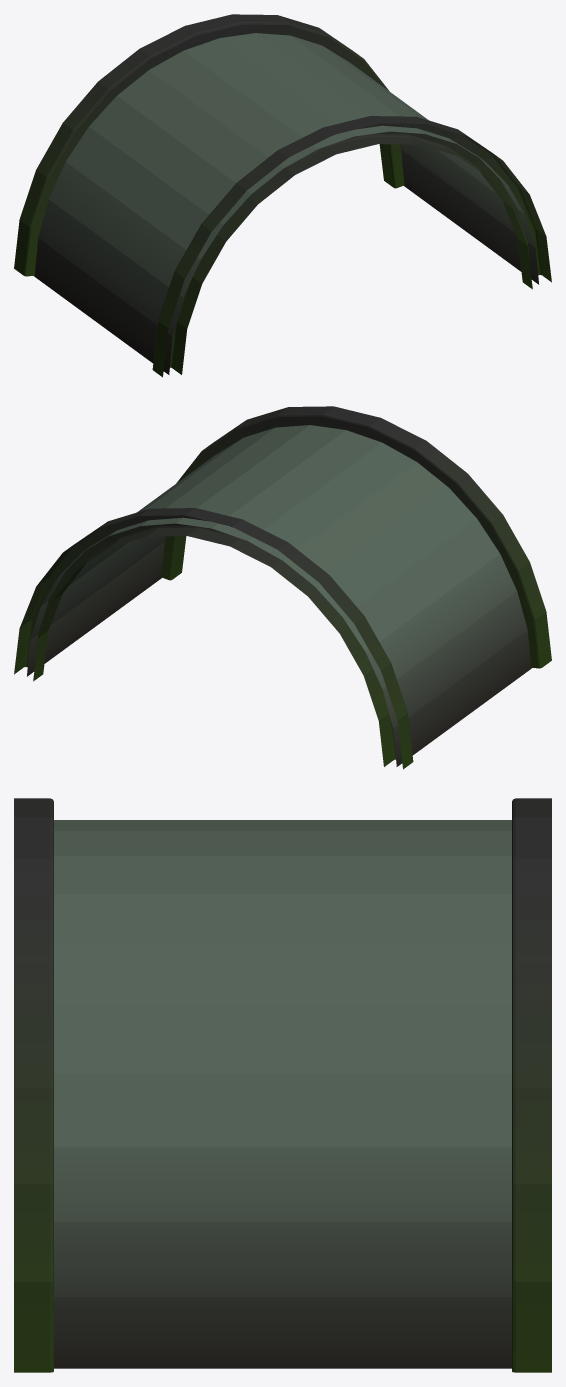
The model's file is SM_Sewer_INT_01.fbx.
The picture shows the model from 3 angles, top to bottom: view 1: azimuth 30°, elevation 25°; view 2: azimuth 150°, elevation 25°; view 3: azimuth 270°, elevation 25°; orthographic projection. The views are drawn at different scales.
Parts seen in each view (by area): view 1: transform12; view 2: transform12; view 3: transform12.
Part boxes in pixels (bbox=[...]): transform12: bbox=[14, 14, 551, 377]; transform12: bbox=[14, 406, 551, 769]; transform12: bbox=[14, 798, 551, 1372].
Size of the model in its own units: 631 by 315 by 418.
